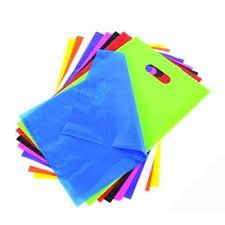Plastic bag: (9, 19, 207, 210)
